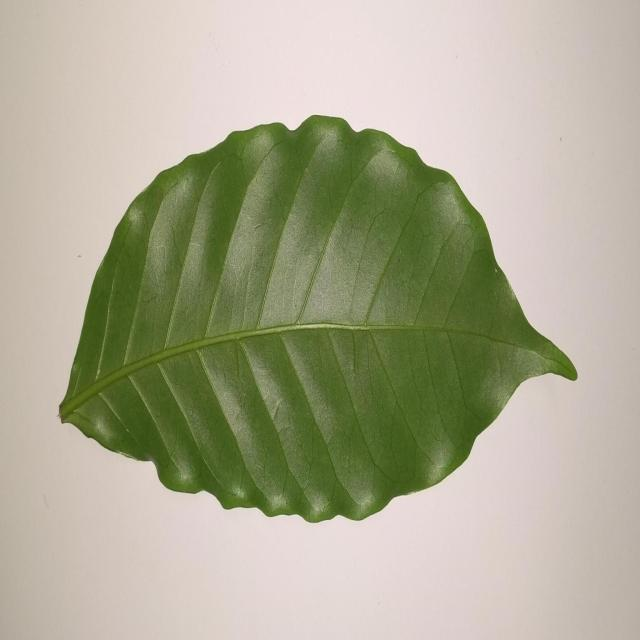Sanas: (58, 115, 578, 525)
